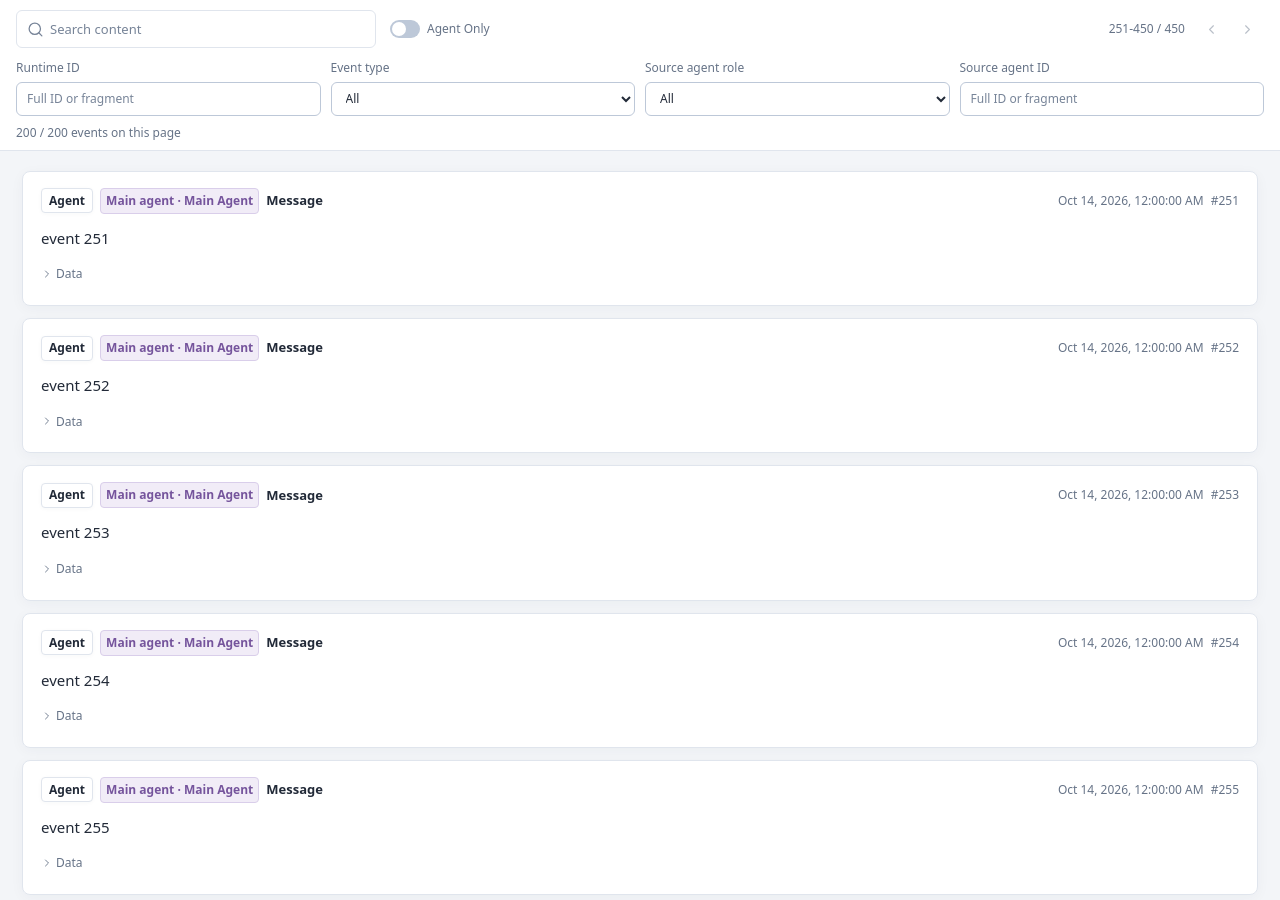
it: pages backward and forward through cached event windows
expect the text "251-450 / 450" is shown: met, box [1109, 20, 1185, 37]
expect the button named "Next page" is disabled: met, box [1230, 12, 1264, 46]
Type "event 51" into the field labelled "Search content" at point(208, 29), box [50, 12, 365, 46]
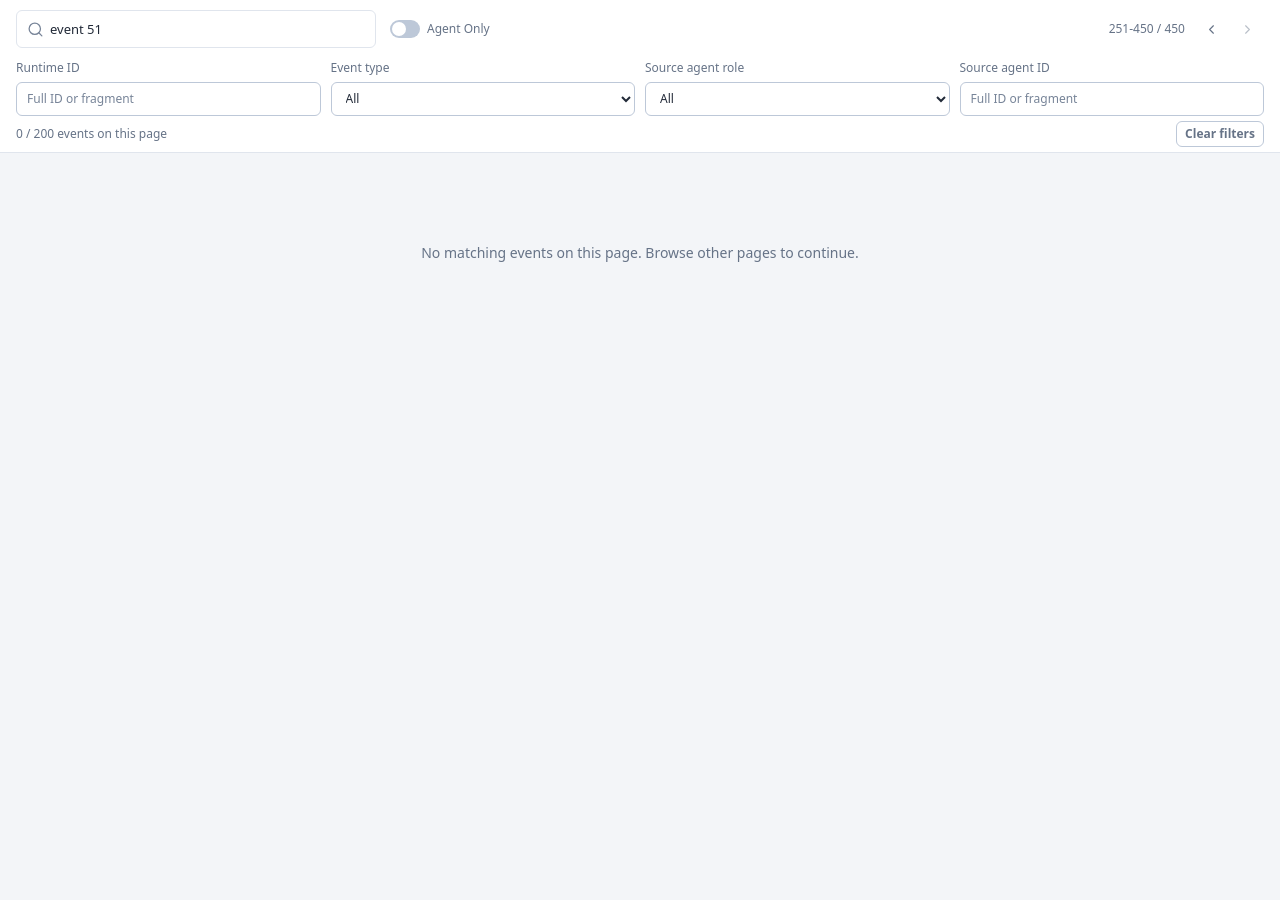
expect the text "No matching events" is shown: met, box [421, 243, 859, 262]
Click the button named "Previous page" at point(1211, 29), box [1194, 12, 1228, 46]
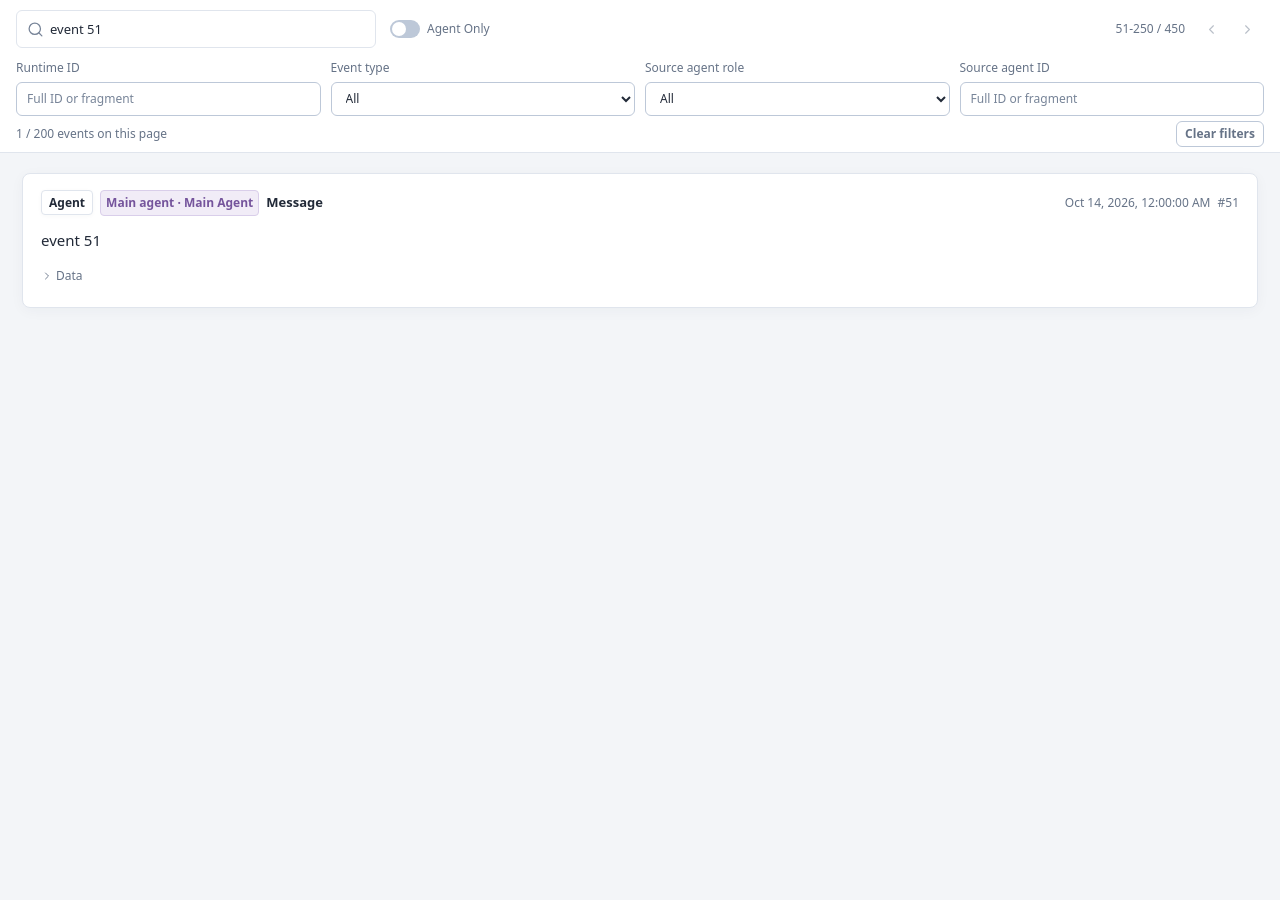
expect the text "event 51" is shown: met, box [41, 230, 101, 250]
expect the text "51-250 / 450" is shown: met, box [1116, 20, 1185, 37]
Click the button "Clear filters" at point(1220, 134), box [1176, 121, 1264, 147]
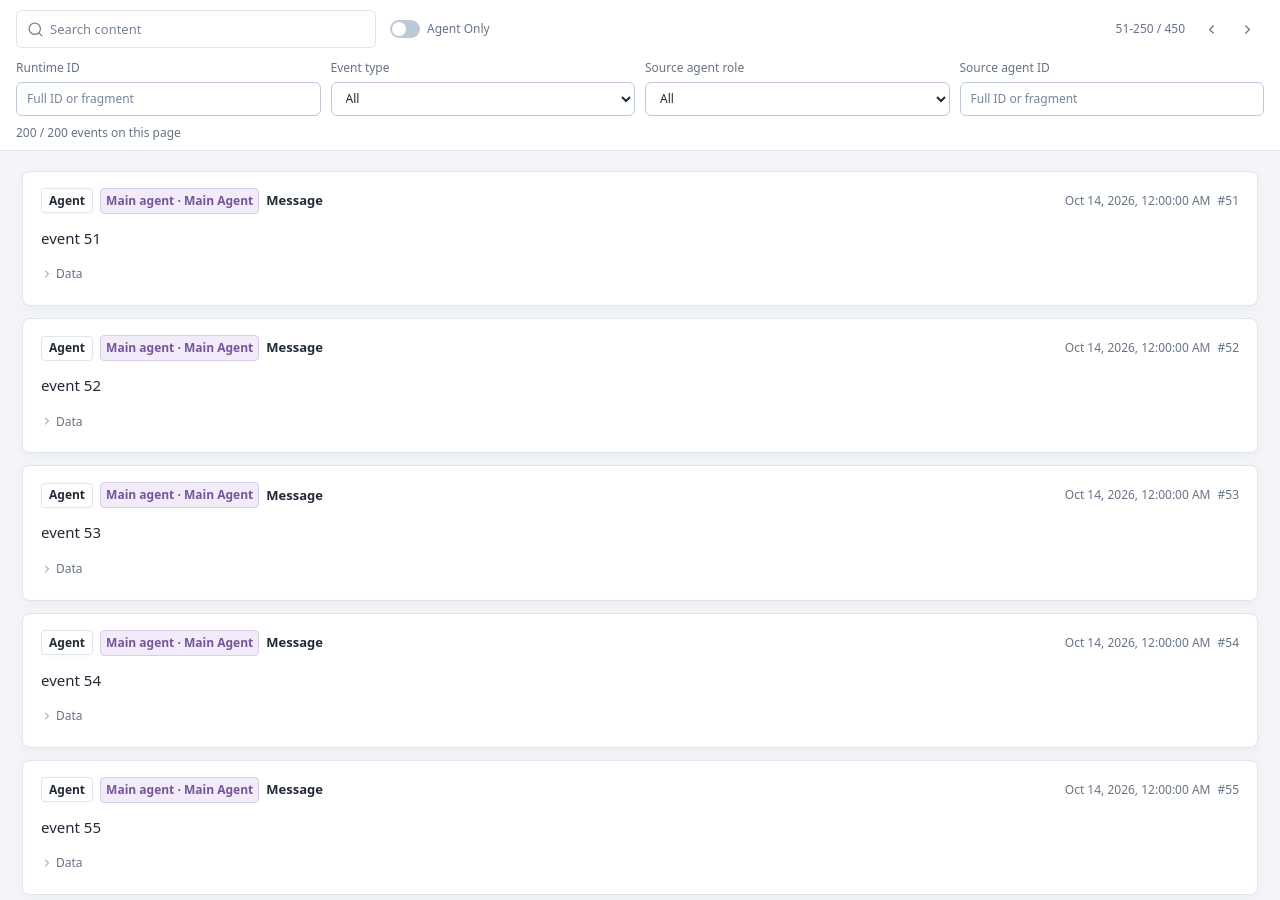
Click the button named "Previous page" at point(1211, 29), box [1194, 12, 1228, 46]
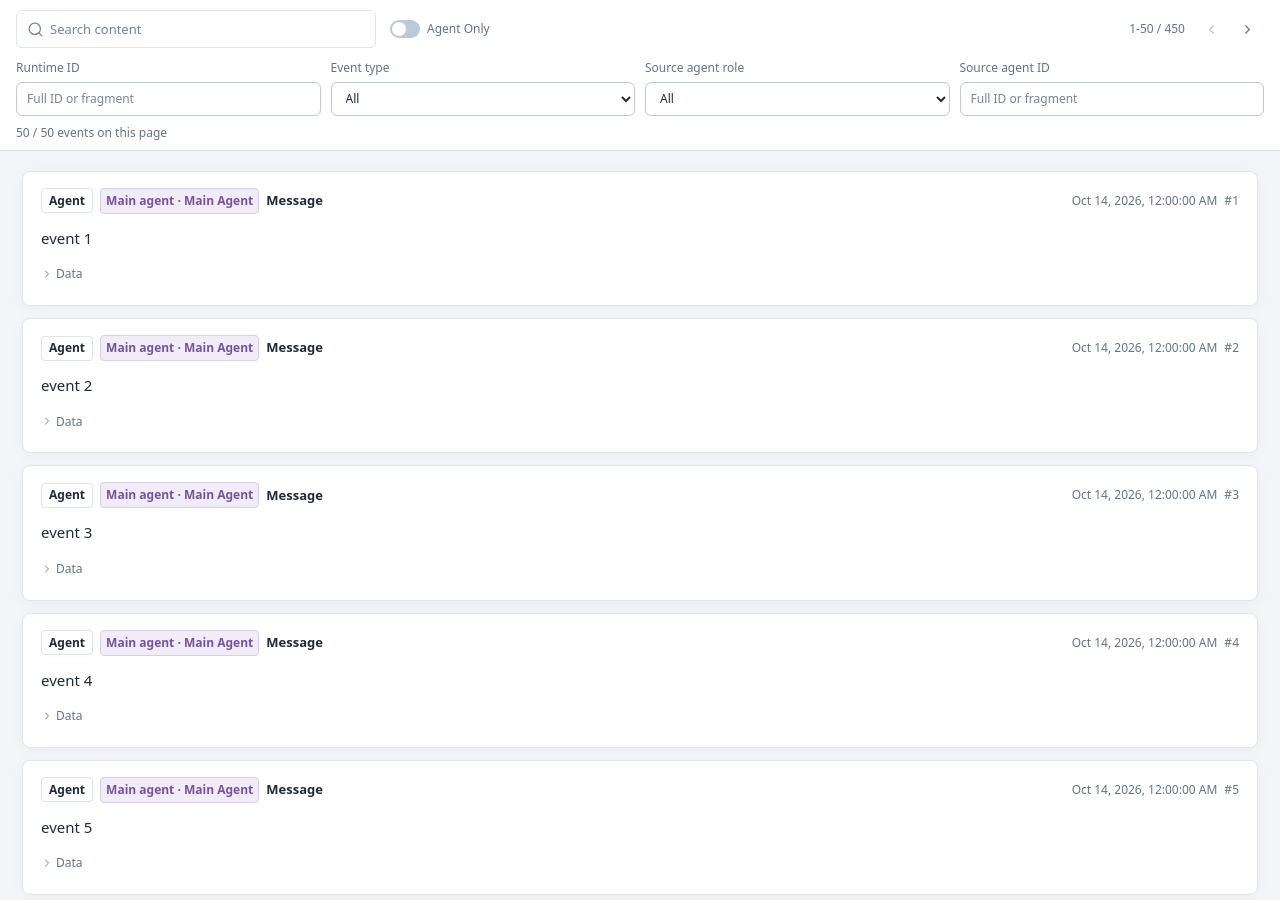
expect the text "event 1" is shown: met, box [41, 228, 92, 248]
expect the text "1-50 / 450" is shown: met, box [1129, 20, 1185, 37]
Click the button named "Next page" at point(1247, 29), box [1230, 12, 1264, 46]
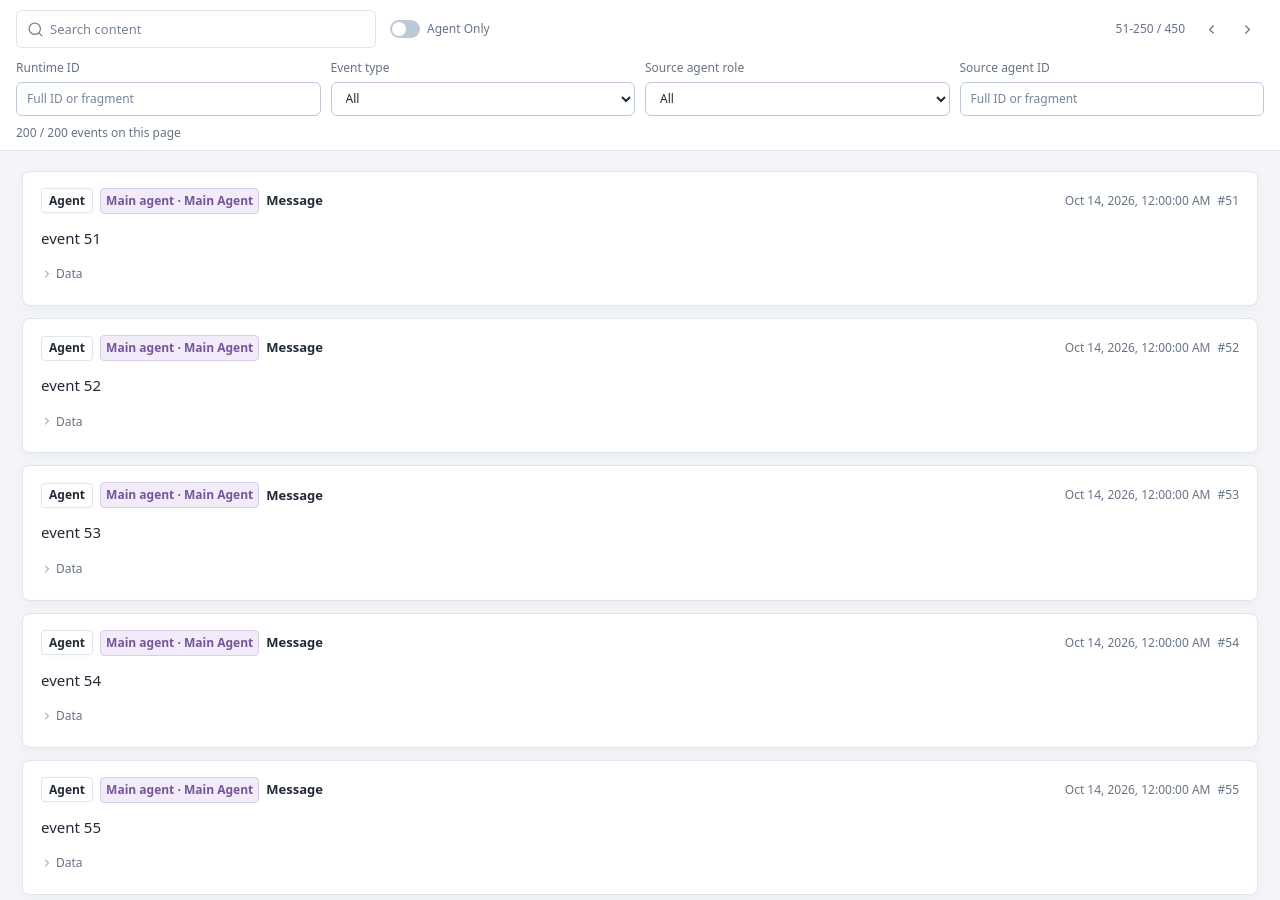
expect the text "event 51" is shown: met, box [41, 228, 101, 248]
expect the text "51-250 / 450" is shown: met, box [1116, 20, 1185, 37]
